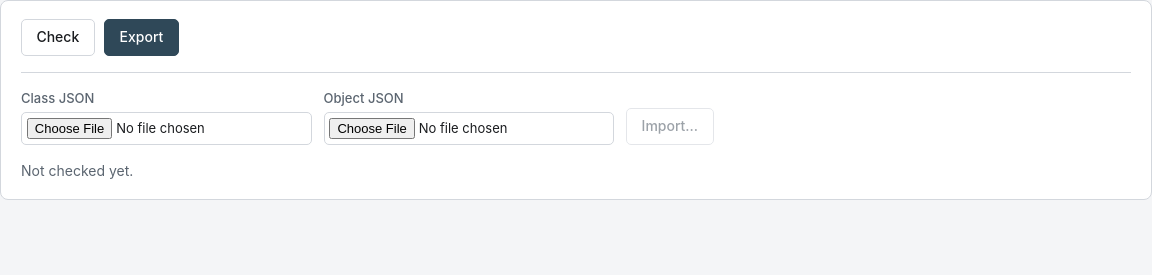
Scenario: Toolbar check › clears a standing result and shows an alert when Check fails
Click the button "Check". click: (58, 37)
box: left=21, top=19, right=95, bottom=56
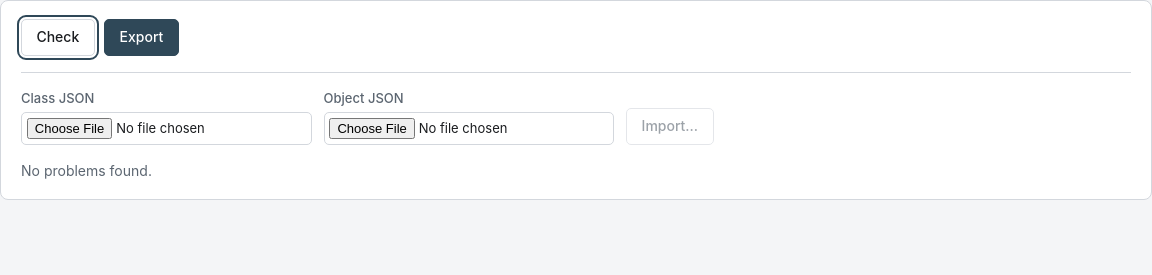
Expected: the text "No problems found." is shown, left=21, top=162, right=152, bottom=179
Click the button "Check". click: (58, 37)
box: left=21, top=19, right=95, bottom=56
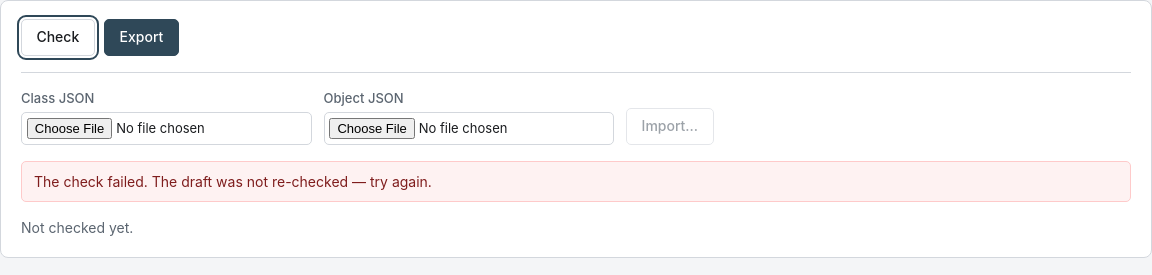
Expected: the message reads "The check failed. The draft was not re-checked — try again.", left=34, top=172, right=432, bottom=190
Expected: the text "Not checked yet." is shown, left=21, top=219, right=133, bottom=236
Expected: the text "No problems found." is gone
